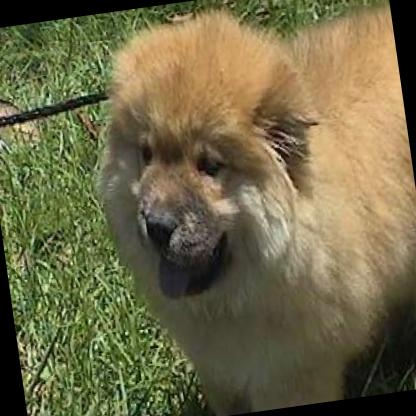chow: (68, 0, 416, 416)
